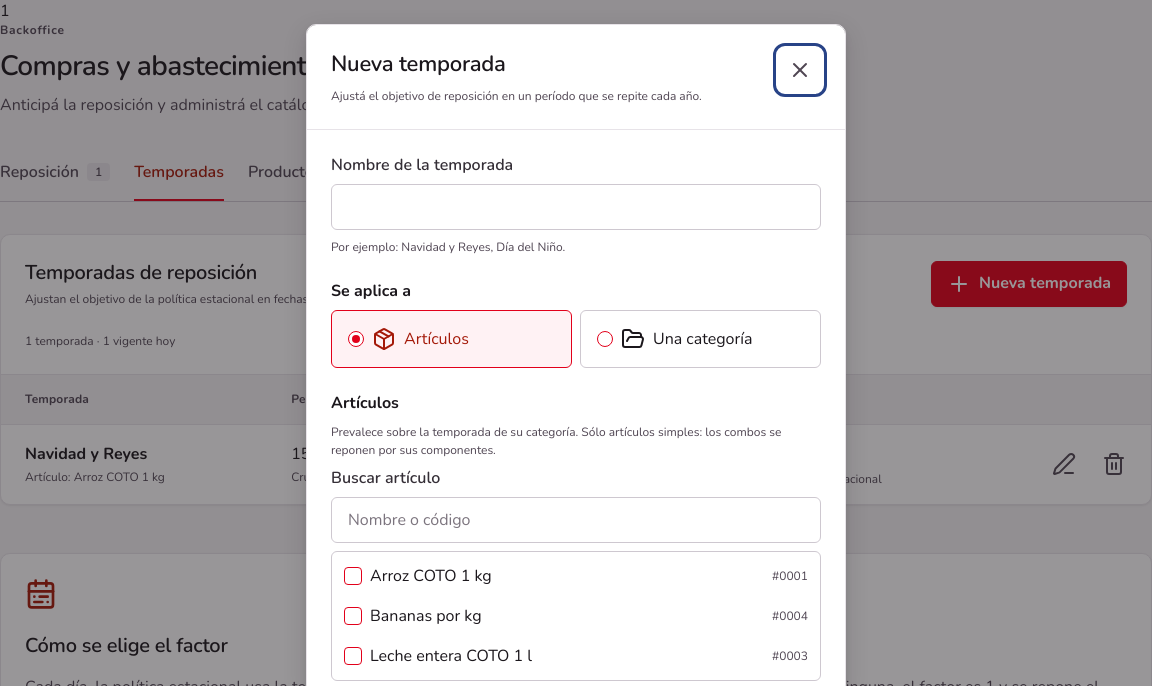
Test: temporadas de reposición › crea una temporada que cruza el año y recarga políticas y temporadas
The width and height of the screenshot is (1152, 686).
Earlier steps of the test are not shown.
Later steps or results of the test are not shown.
Type "Verano" into the field labelled "Nombre de la temporada" at [576, 207], box [331, 184, 821, 230]
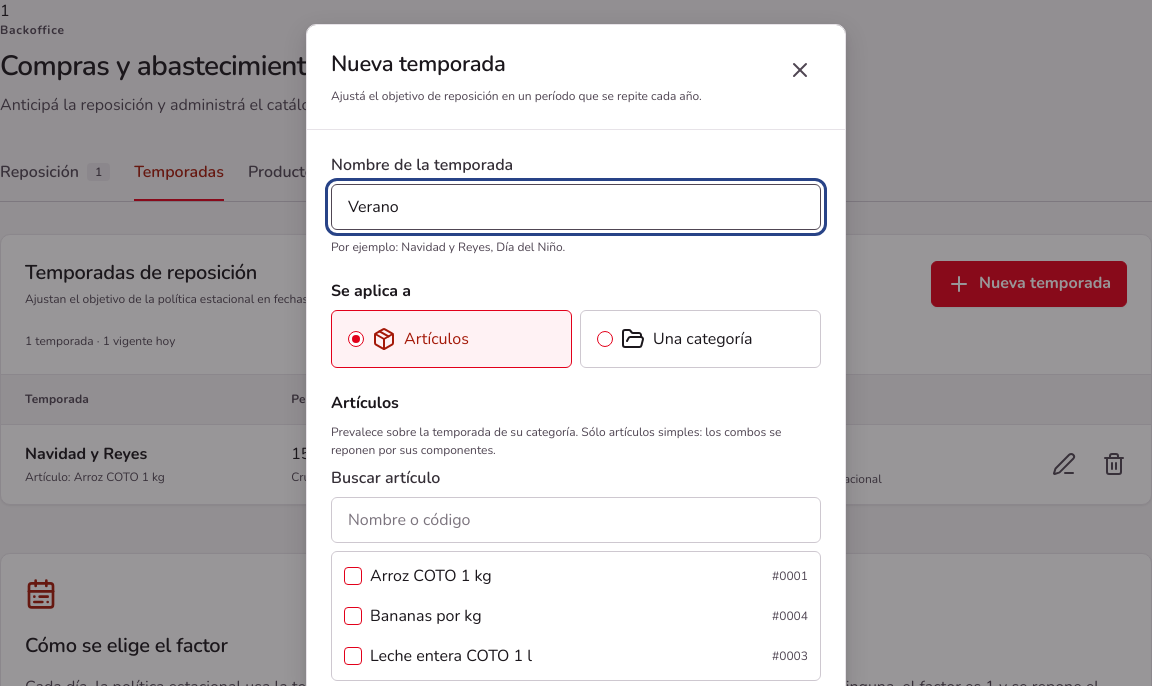
Click the checkbox labelled "Bananas por kg #0004" at [353, 616], box [344, 607, 362, 625]
(page scrolled)
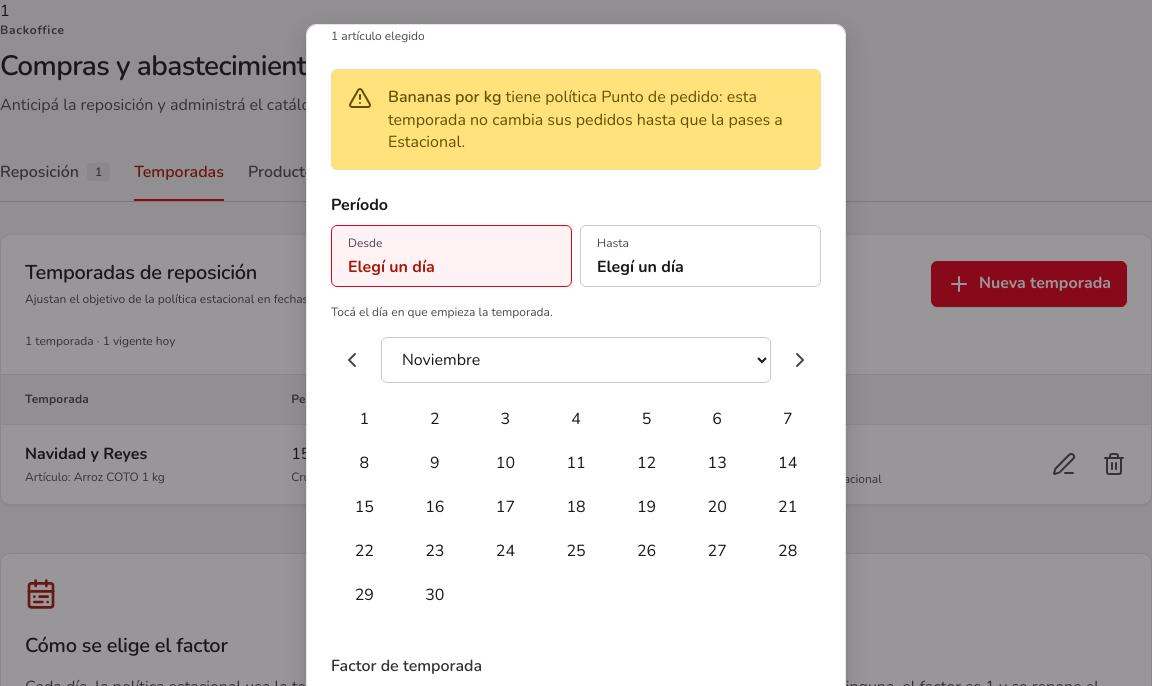
Select "Diciembre" in the dropdown named "Mes del calendario" at [576, 360], box [381, 337, 771, 383]
Click the button "20" at [717, 507], box [684, 487, 750, 527]
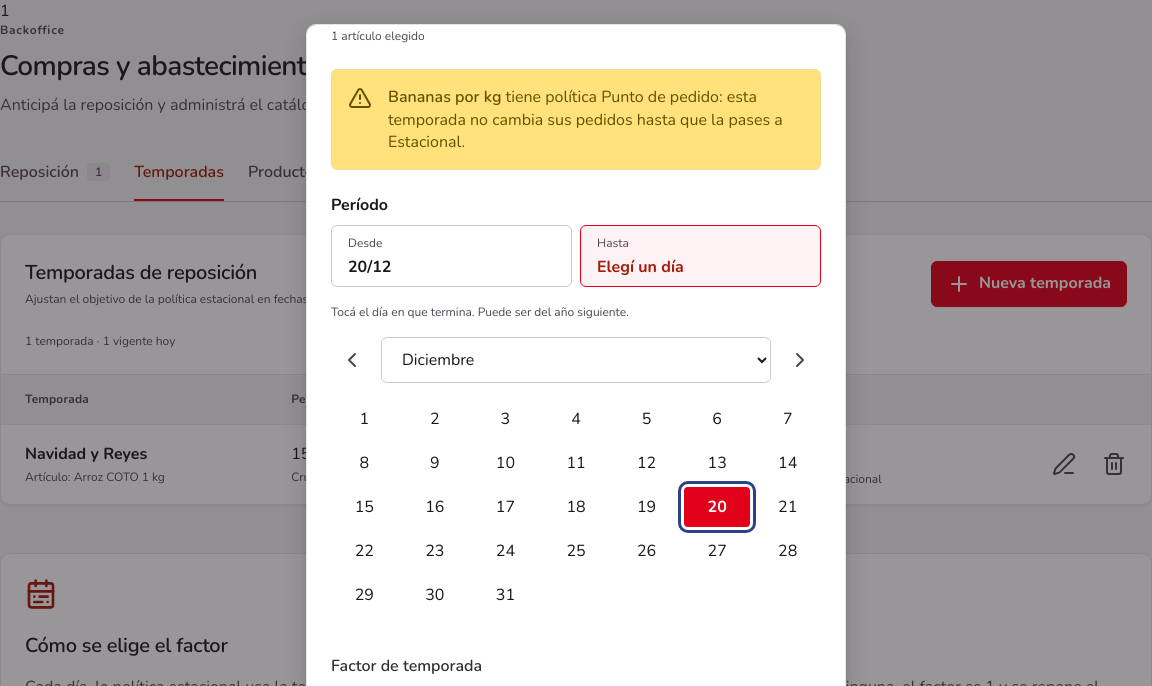
Select "Febrero" in the dropdown named "Mes del calendario" at [576, 360], box [381, 337, 771, 383]
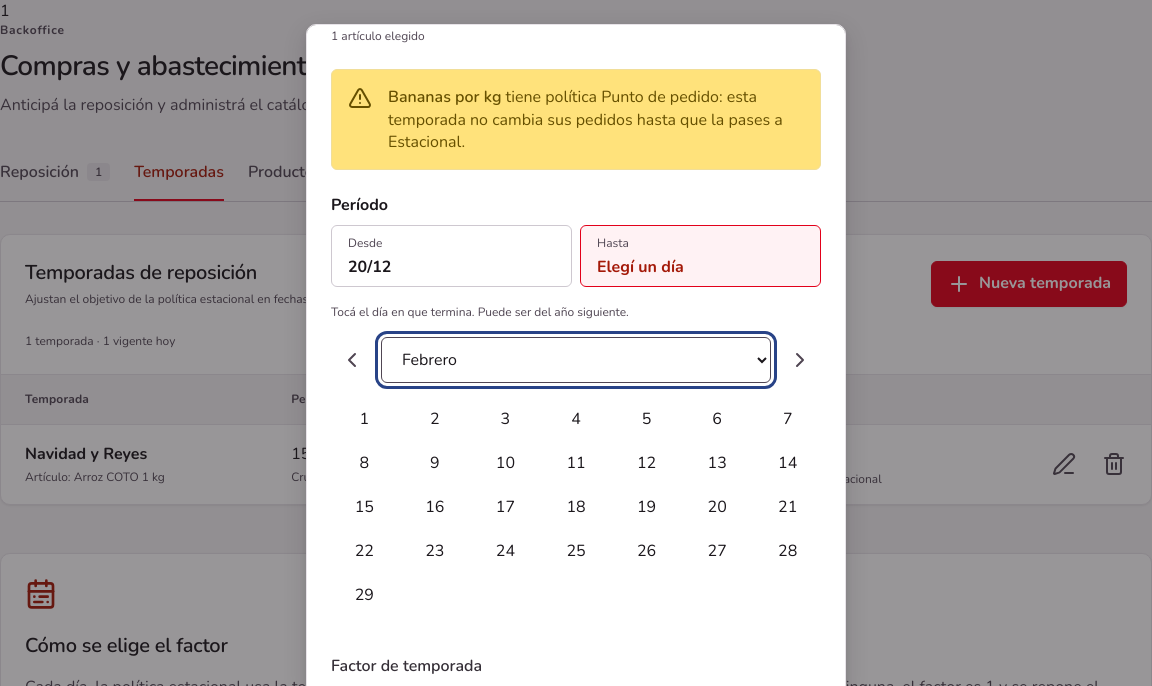
Click the button "28" at [788, 551], box [754, 531, 821, 571]
(page scrolled)
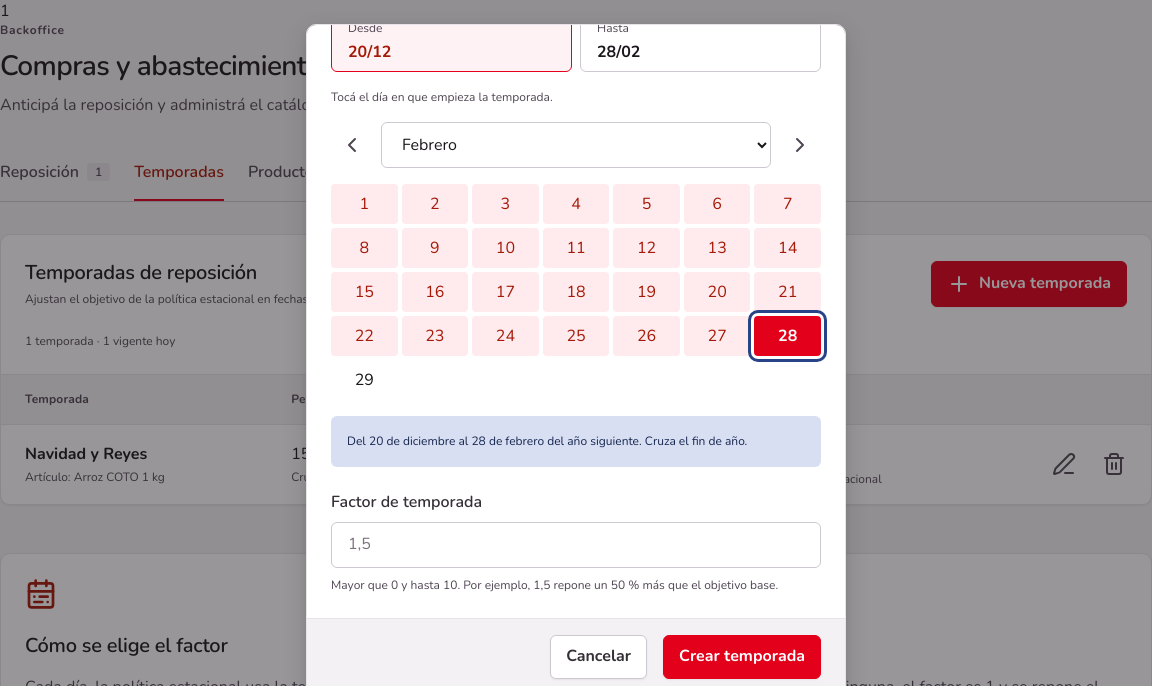
Type "1.25" into the number field labelled "Factor de temporada" at [576, 545], box [331, 522, 821, 568]
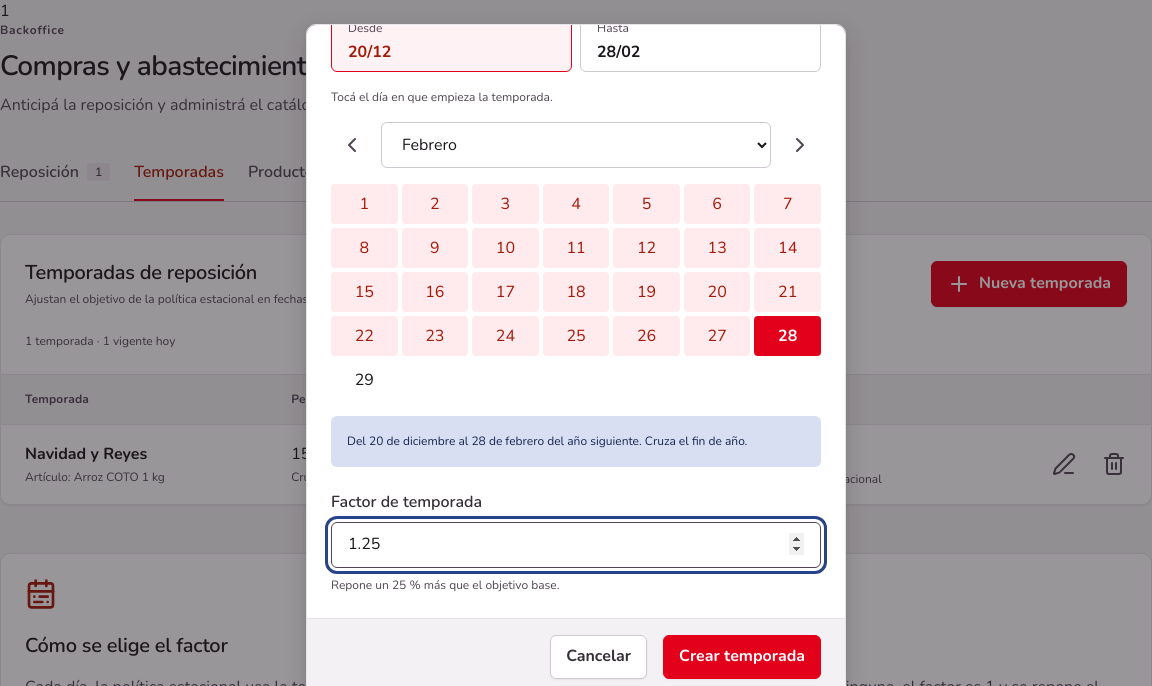
Expected: the text "Del 20 de diciembre al 28 de febrero del año siguiente. Cruza el fin de año." is shown, [331, 416, 821, 467]
Expected: the text "Repone un 25 % más que el objetivo base." is shown, [331, 577, 559, 593]
